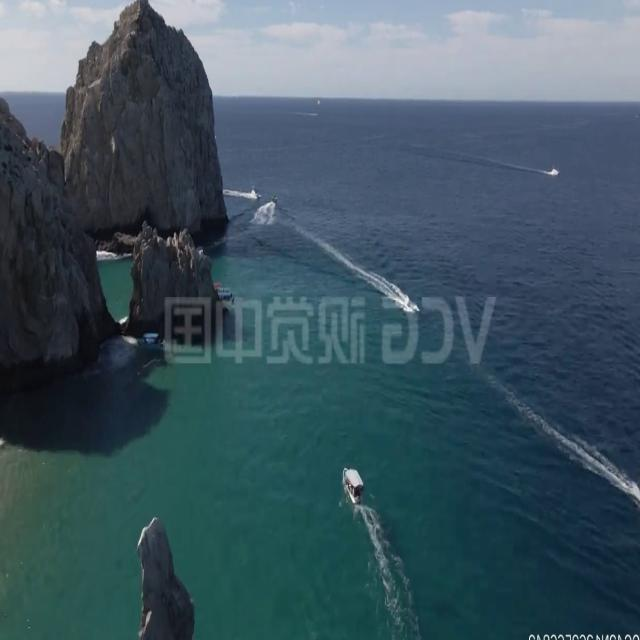houseboat: (341, 462, 364, 507), (137, 327, 167, 355), (216, 279, 235, 305), (250, 186, 262, 203), (403, 293, 412, 312), (270, 191, 278, 212), (550, 166, 560, 177)
